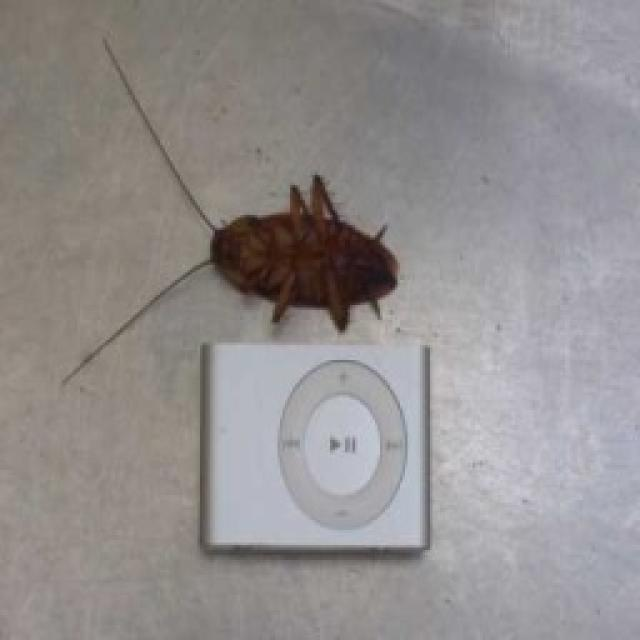cockroach: (207, 171, 403, 334)
